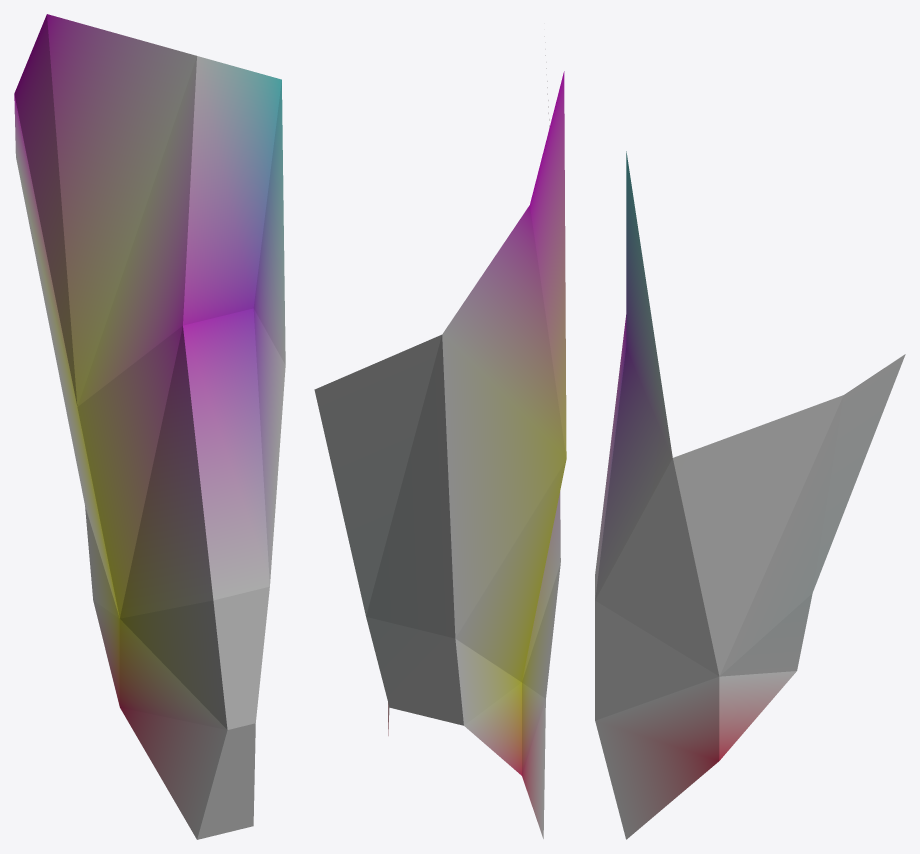
3 views of the same model, side by side, from view 1: azimuth 30°, elevation 25°; view 2: azimuth 150°, elevation 25°; view 3: azimuth 270°, elevation 25° (orthographic). The views are drawn at different scales.
Parts seen in each view (by area): view 1: model_11CE; view 2: model_11CE; view 3: model_11CE.
Part boxes in pixels (box(x1,y1,x2,y2)): model_11CE: box(14, 14, 285, 839); model_11CE: box(314, 36, 566, 838); model_11CE: box(595, 151, 905, 839).
Size of the model in its own units: 14 by 54 by 20.
